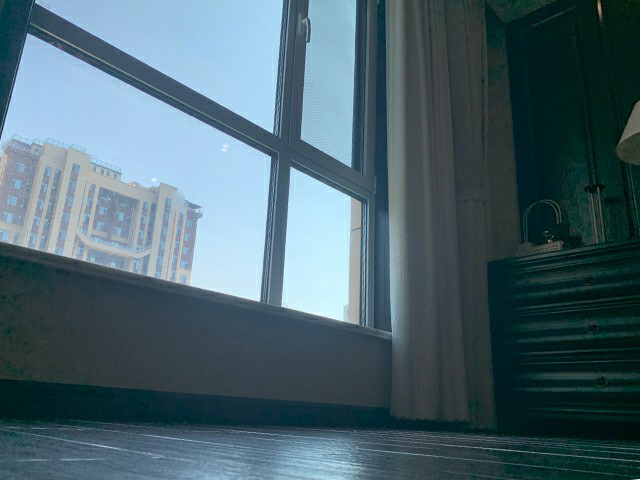cabinet: (487, 236, 640, 439)
curtain: (384, 1, 497, 429)
